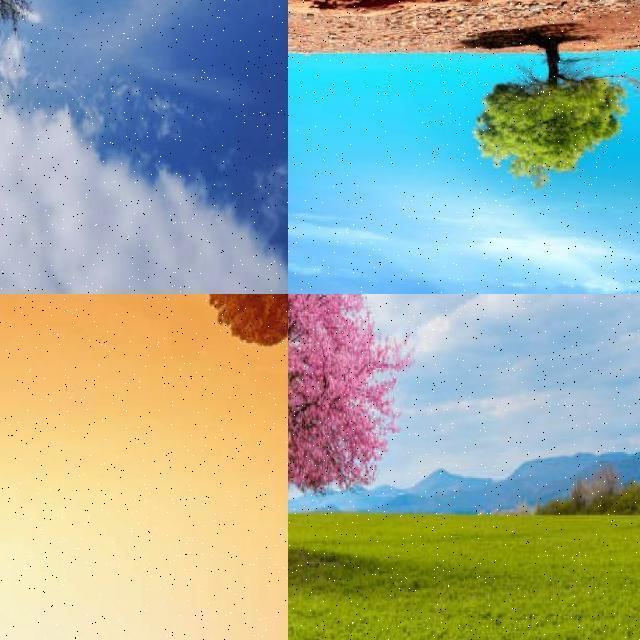tree: (288, 294, 464, 566), (474, 44, 628, 184), (0, 0, 106, 130), (204, 294, 288, 366)
